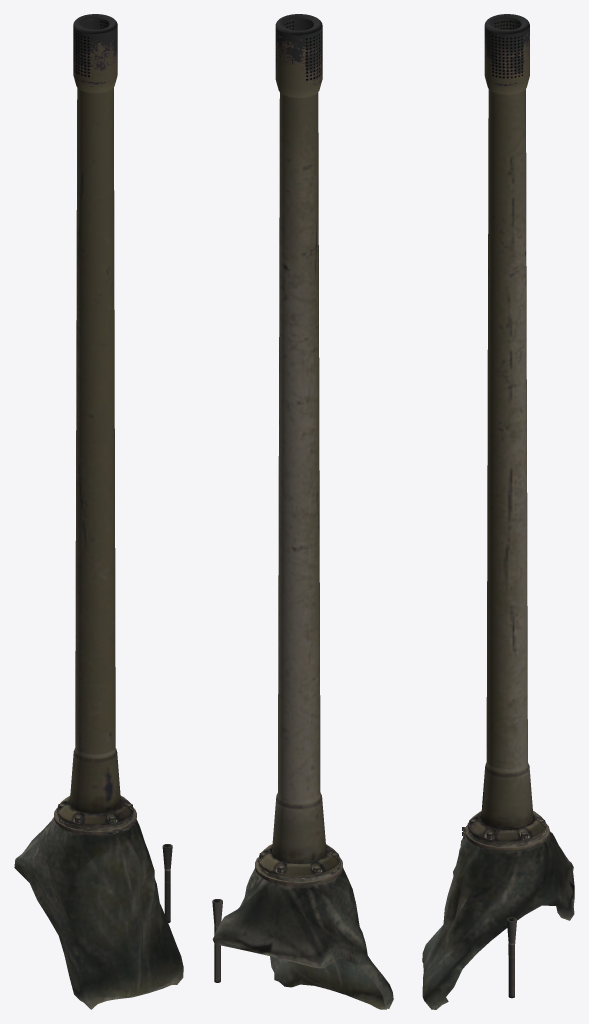
The model's file is Gun_05.glb.
The picture shows the model from 3 angles, left to right: view 1: azimuth 30°, elevation 25°; view 2: azimuth 150°, elevation 25°; view 3: azimuth 270°, elevation 25°; orthographic projection. The views are drawn at different scales.
Parts seen in each view (by area): view 1: set_0_group_0; view 2: set_0_group_0; view 3: set_0_group_0.
Part boxes in pixels (x1,y1,x2,y2): set_0_group_0: (14,14,183,1009); set_0_group_0: (212,14,393,1009); set_0_group_0: (422,14,574,1009).
Size of the model in its own units: 0.6514 by 4.45 by 0.6362.
Materials: 1 (1 with a texture image).
